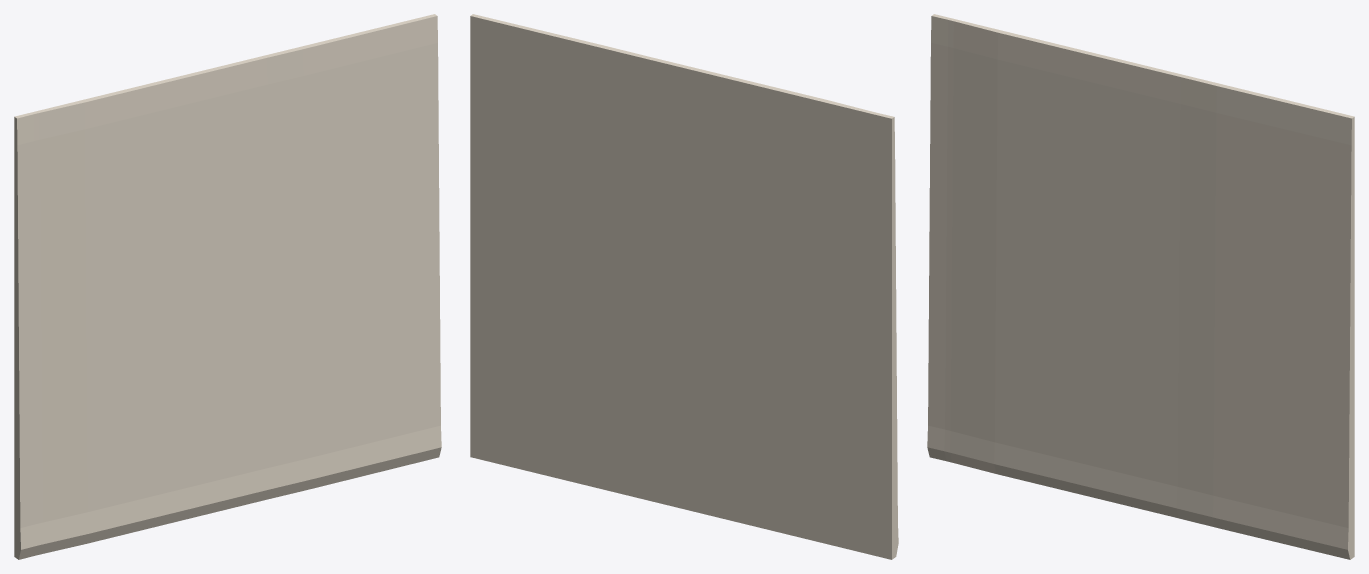
Rendered from frontier-clapboards.glb.
3 renders of one model, left to right at view 1: azimuth 30°, elevation 25°; view 2: azimuth 150°, elevation 25°; view 3: azimuth 330°, elevation 25°, orthographic.
Parts seen in each view (by area): view 1: weathered-lap-board, cup-sawn-lap-board, planed-lap-board; view 2: cup-sawn-lap-board, planed-lap-board, weathered-lap-board; view 3: weathered-lap-board, cup-sawn-lap-board, planed-lap-board.
Part boxes in pixels (box(x1,y1,x2,y2)): weathered-lap-board: box(14, 15, 435, 554); cup-sawn-lap-board: box(14, 14, 441, 559); planed-lap-board: box(14, 14, 435, 559); cup-sawn-lap-board: box(470, 14, 898, 559); planed-lap-board: box(481, 16, 898, 559); weathered-lap-board: box(471, 14, 897, 535); weathered-lap-board: box(932, 15, 1354, 540); cup-sawn-lap-board: box(927, 14, 1354, 559); planed-lap-board: box(933, 14, 1354, 556).
Size of the model in its own units: 1 by 1 by 0.03.
